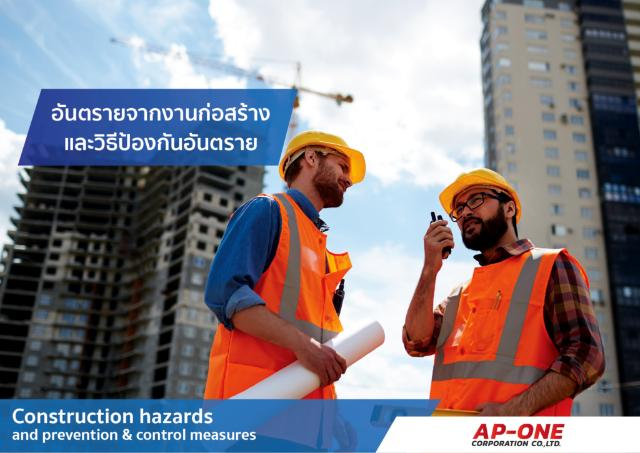helmet: (280, 128, 370, 183), (436, 170, 526, 224)
vest: (430, 254, 578, 418), (221, 192, 329, 397)
